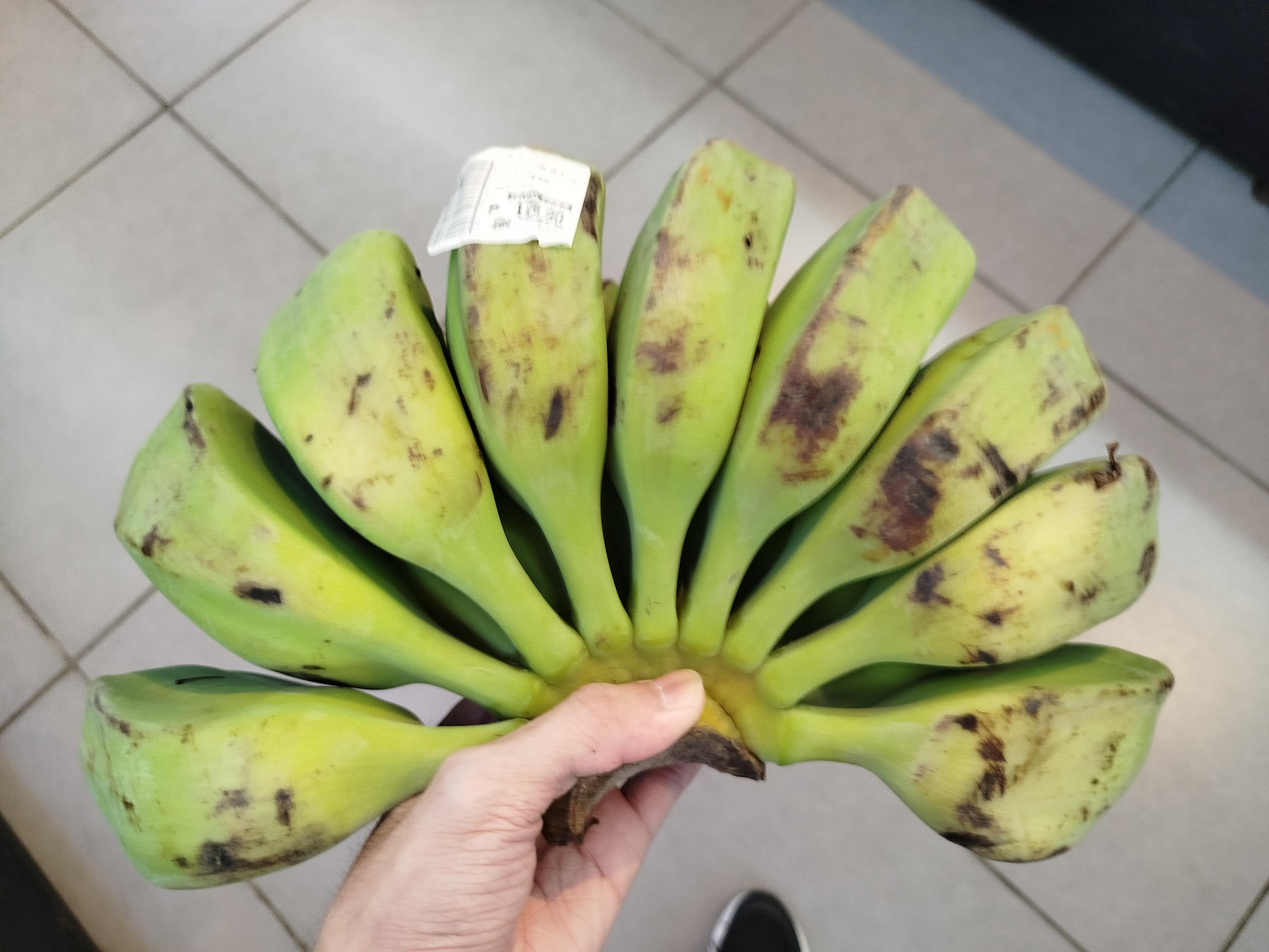underripe: (82, 141, 1173, 887)
